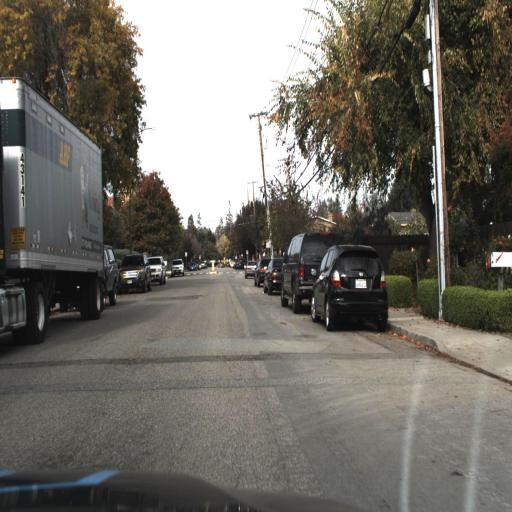car: (308, 242, 393, 331), (278, 226, 347, 317), (115, 247, 150, 297)
truck: (0, 73, 107, 346)
